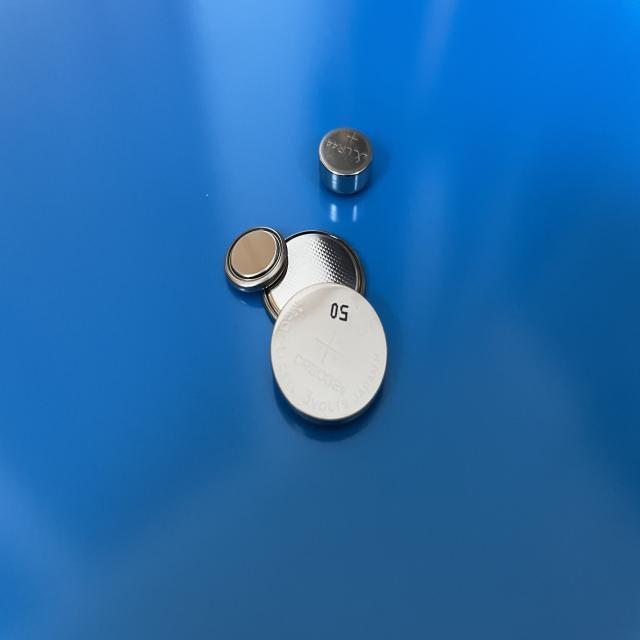COIN: (268, 280, 390, 436), (262, 228, 368, 330), (223, 226, 289, 296), (318, 122, 375, 196)
